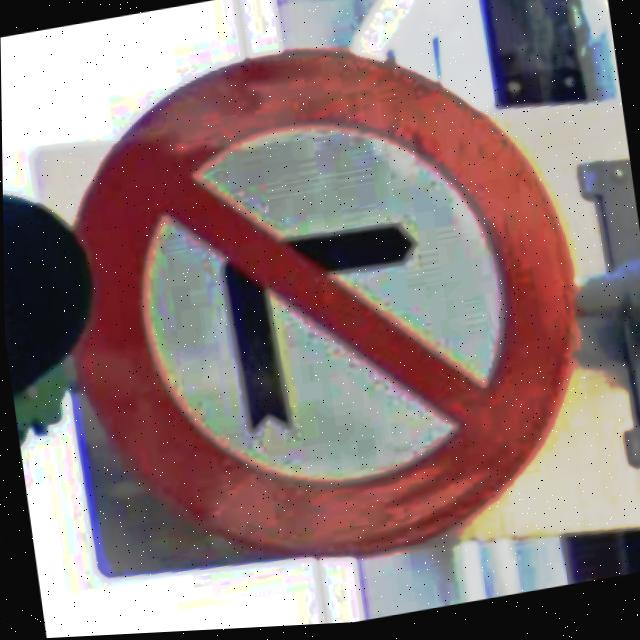noturnright: (71, 51, 580, 564)
